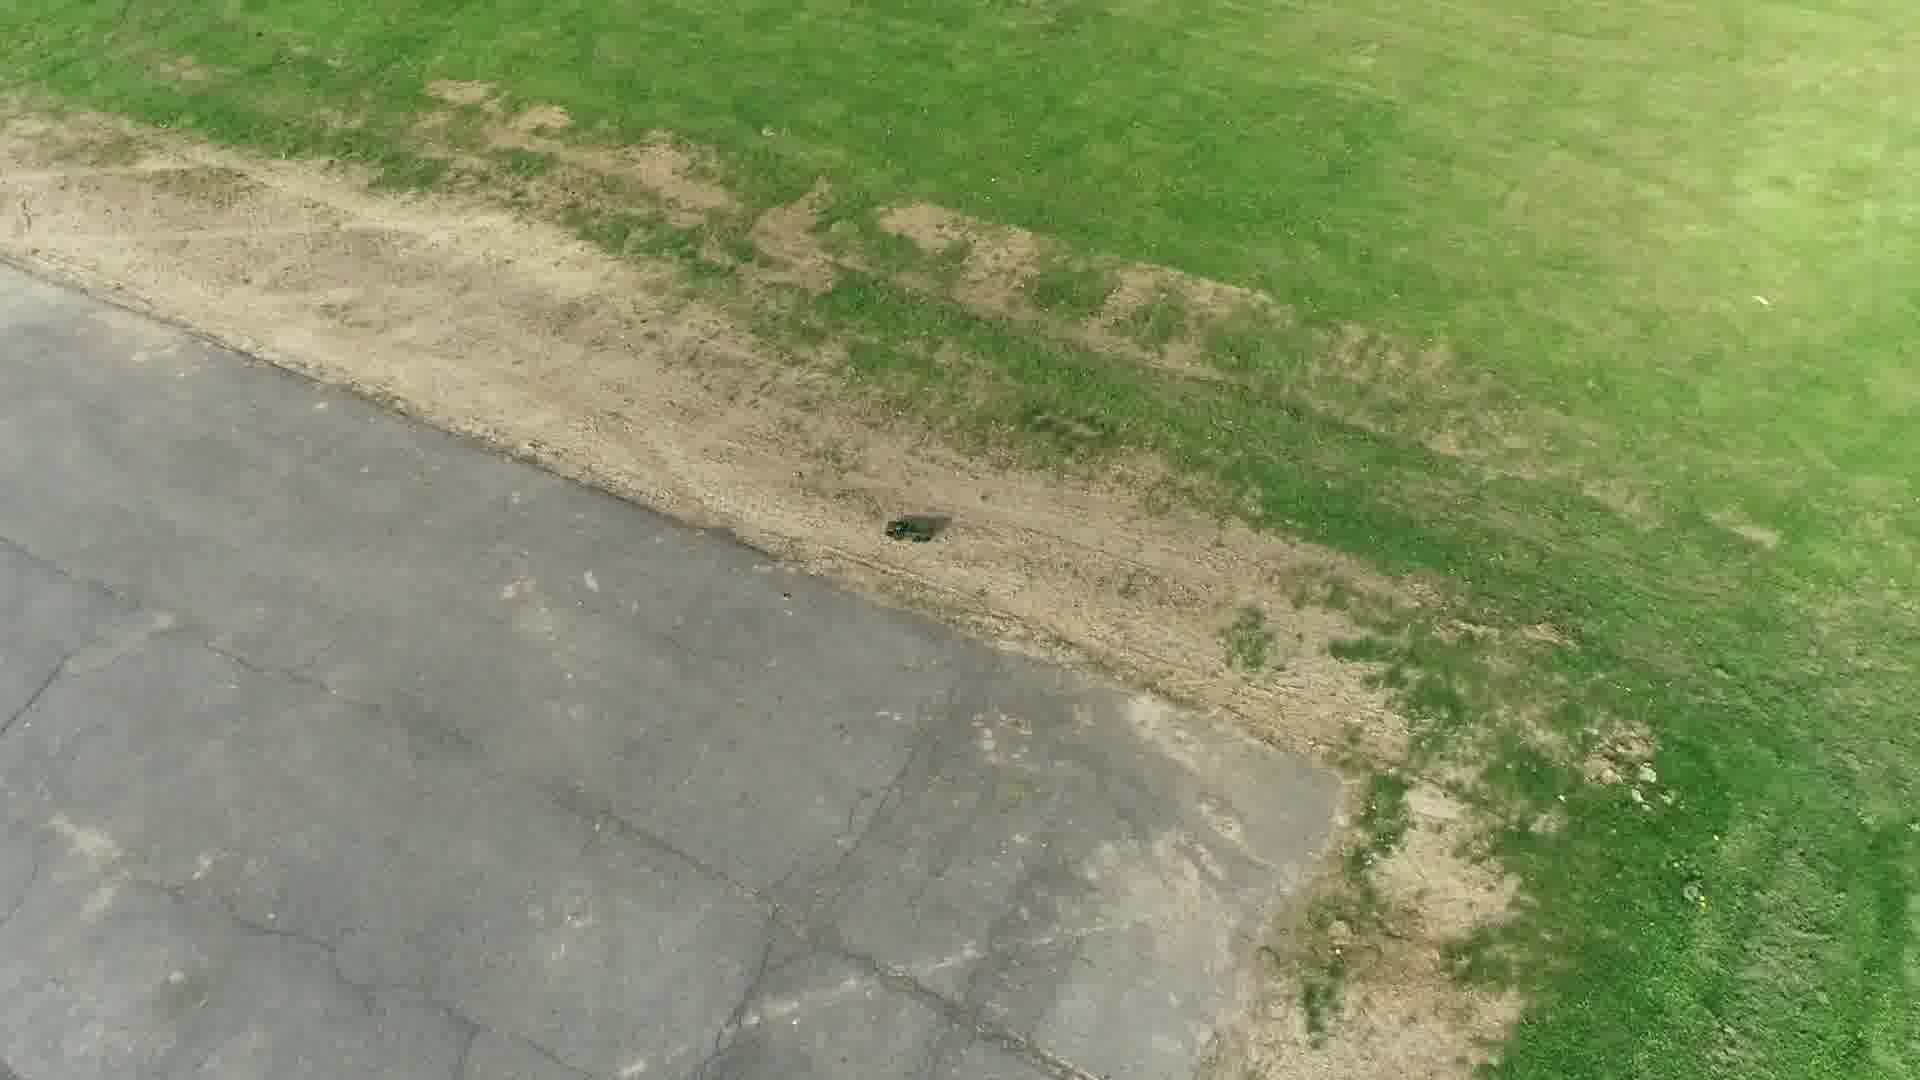transporter9: (884, 516, 934, 545)
